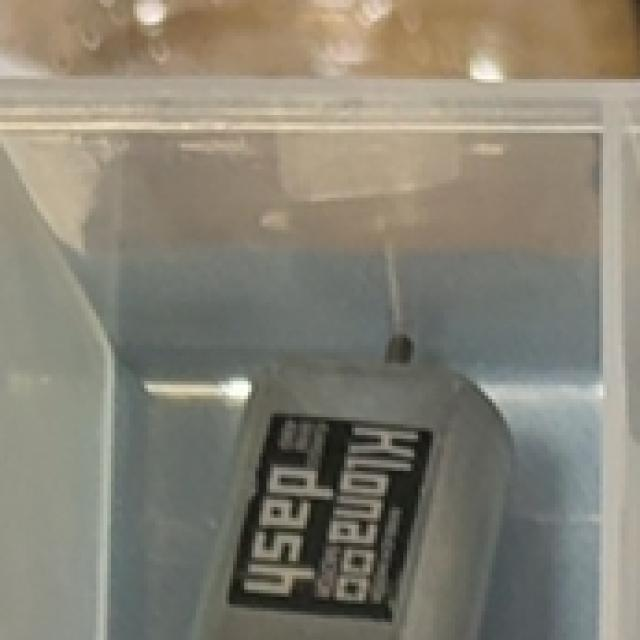Motor: (189, 335, 516, 640)
